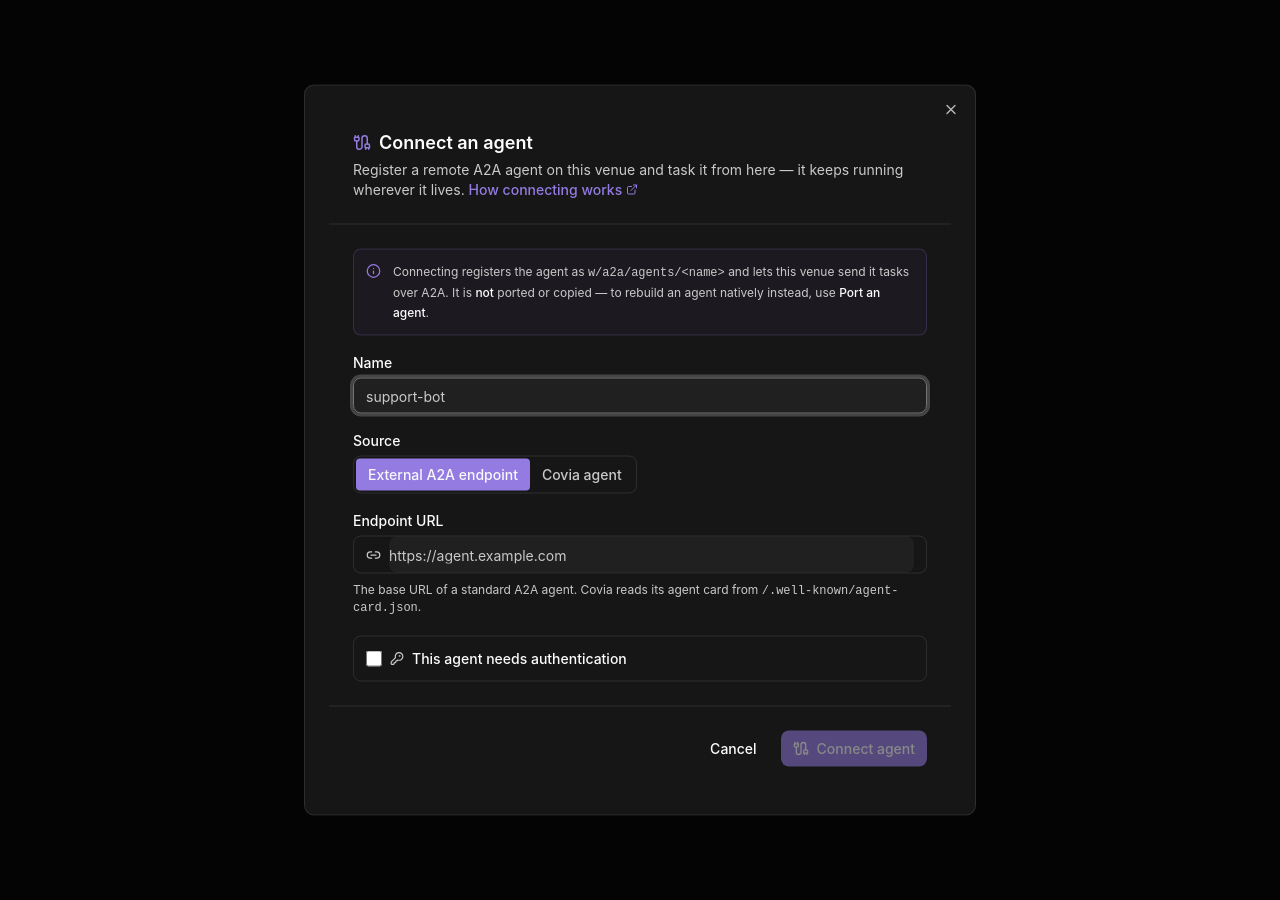
Scenario: ConnectAgentDialog › shows the resolved w/a2a/agents/<name> binding as the user types
This screenshot has width=1280, height=900.
In the field with test id "connect-agent-name": (640, 396) [353, 378, 927, 414], type "Support Bot"
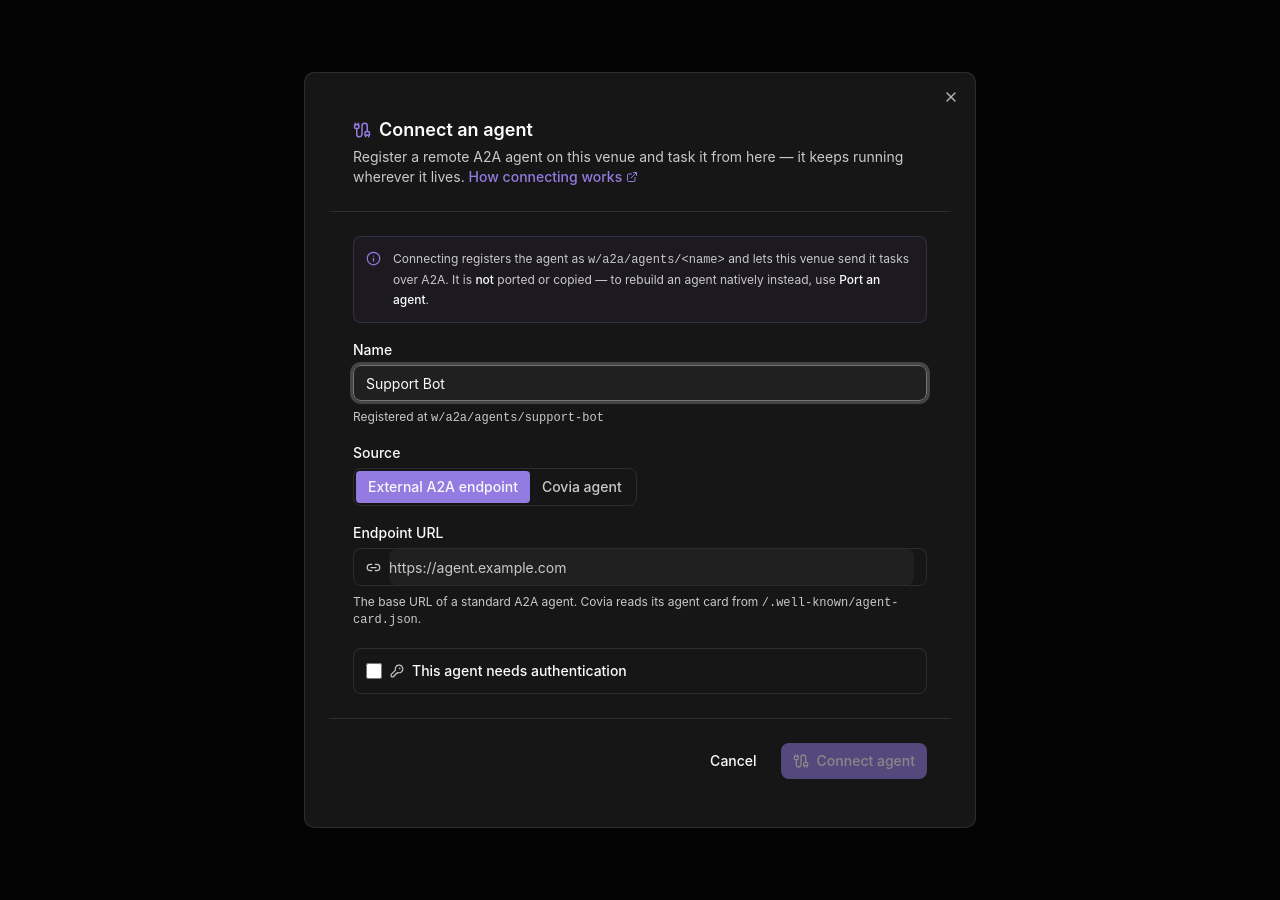
Expected: the text "w/a2a/agents/support-bot" is shown, [431, 411, 604, 425]
